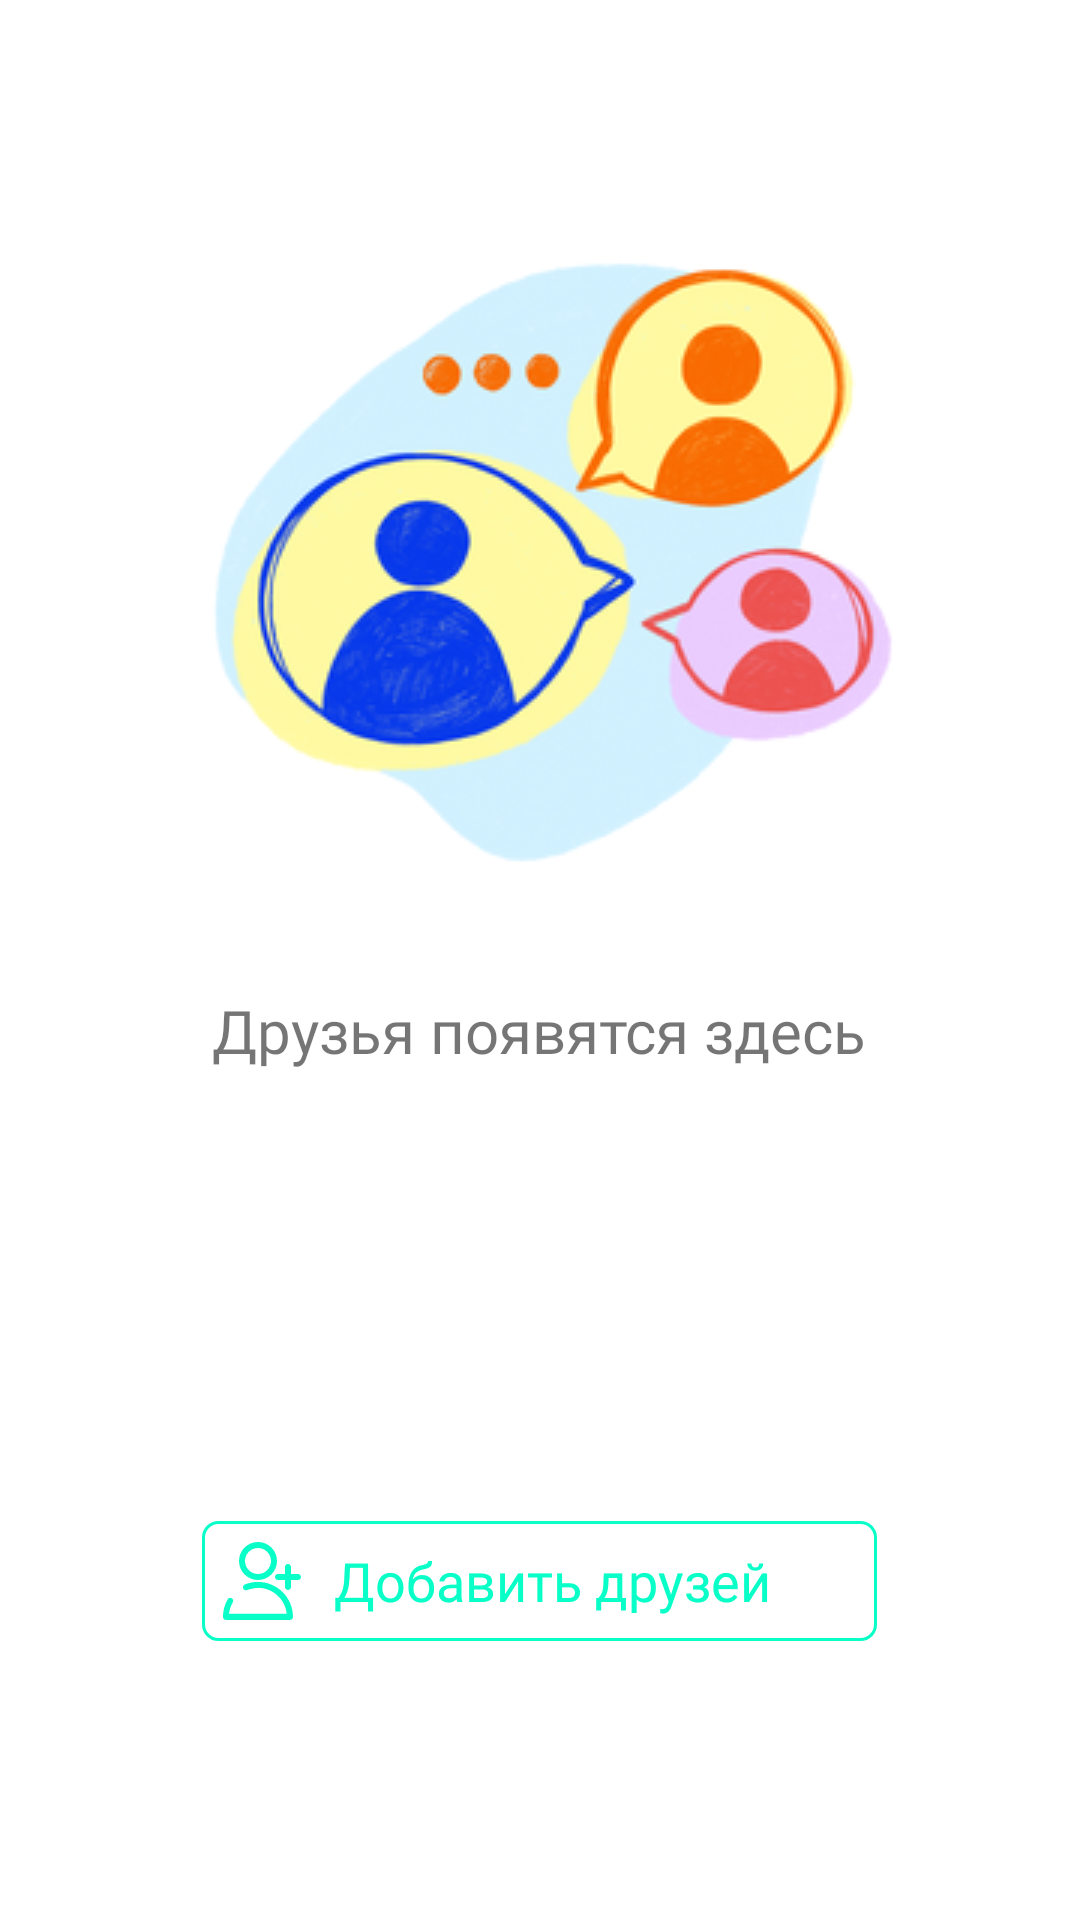

Icon click points for this 1080 × 1920 phone screenshot, format (x=x, y=y):
add friend: (x=262, y=1581)
